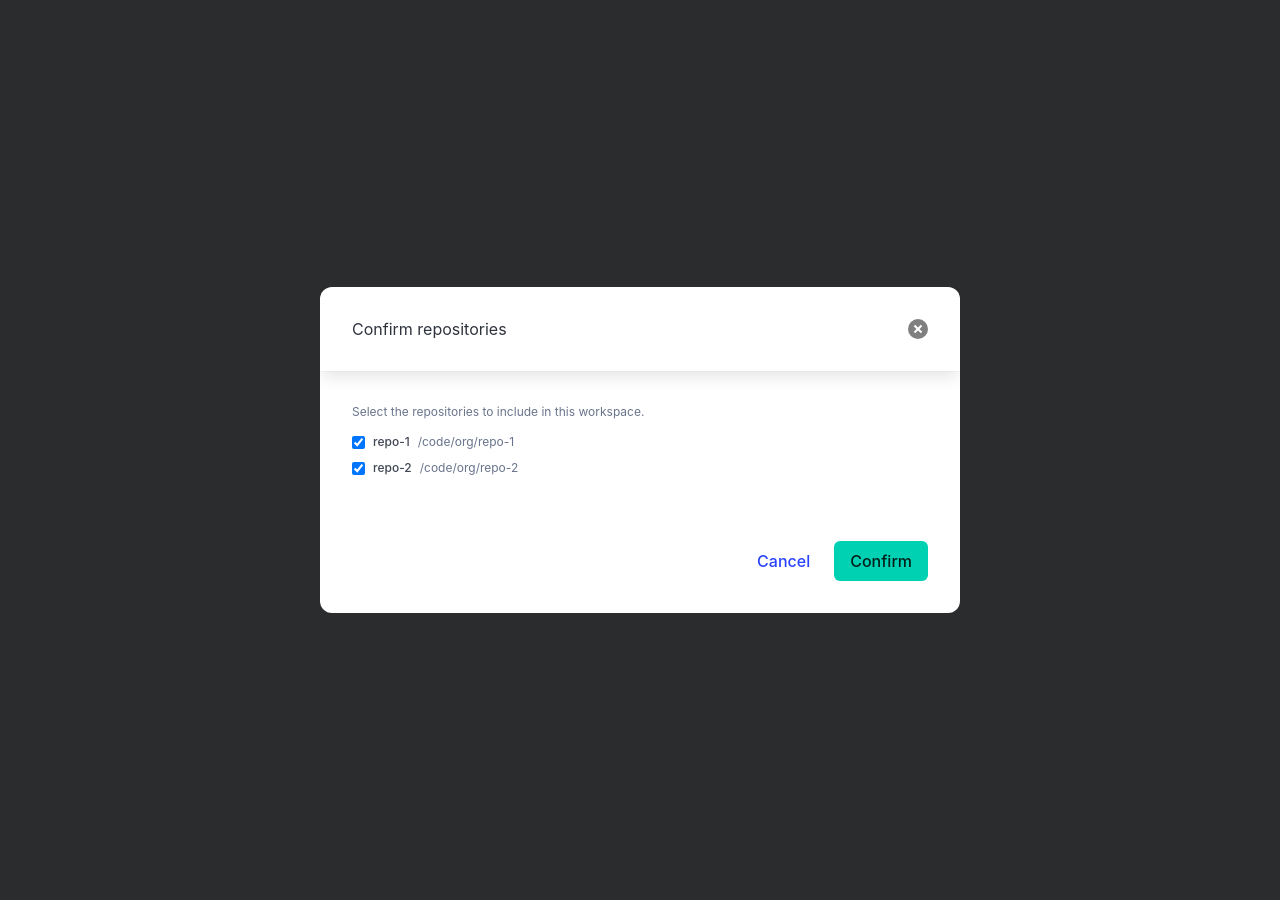
Scenario: WorkspaceConfirmModal — confirm writes selected repos (22.3.4) › shows an error when confirm_workspace_repos fails
Click the button "Confirm": (881,561) [834,541,928,581]
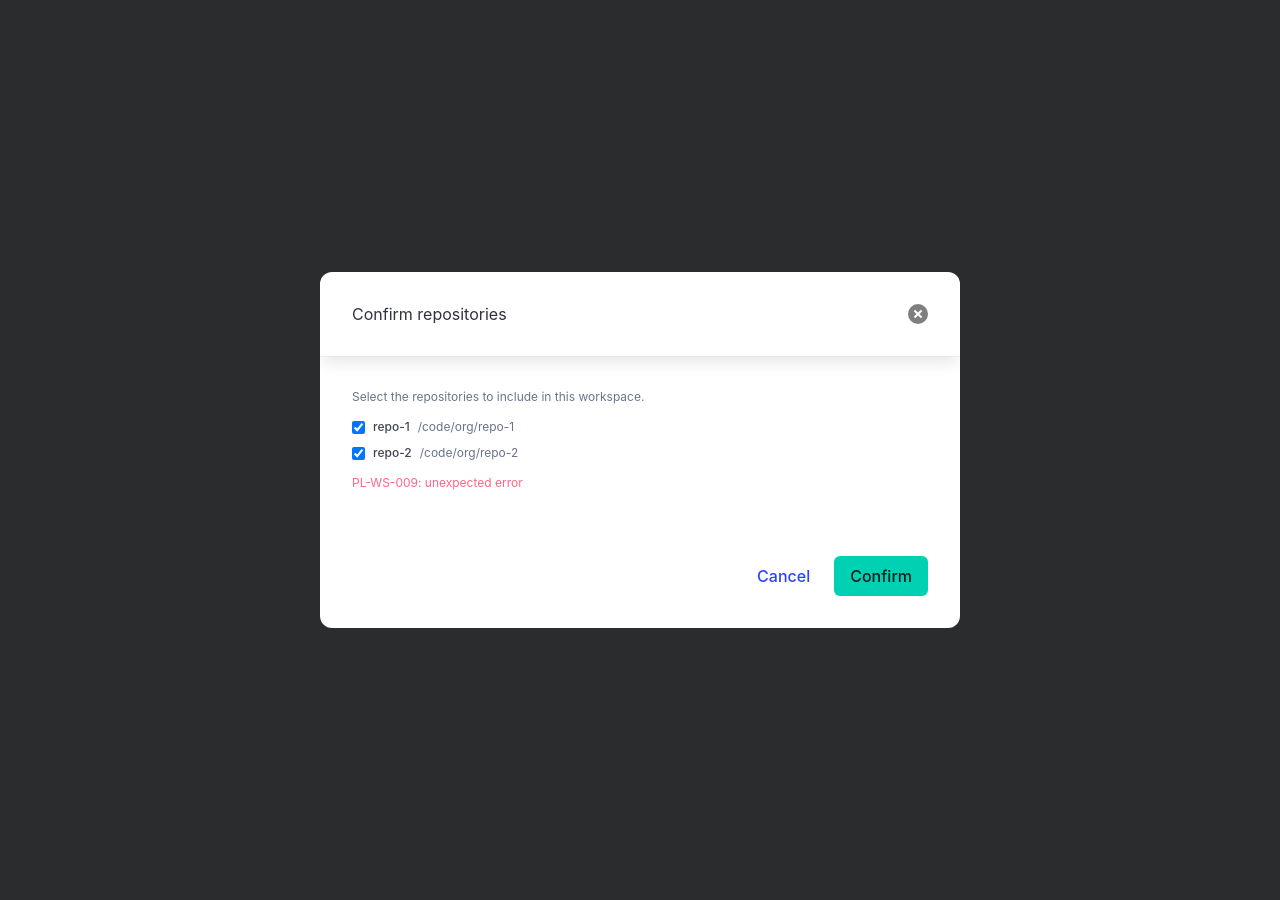
Now the message "PL-WS-009: unexpected error" is shown, box [352,475,523,490]
